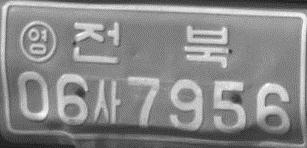0: (16, 70, 49, 122)
5: (211, 79, 246, 136)
6: (255, 81, 292, 136), (54, 72, 88, 126)
7: (126, 76, 160, 128)
9: (168, 78, 203, 131)
사: (92, 79, 121, 123)
영: (18, 20, 57, 62)
전북_D: (72, 20, 230, 69)
